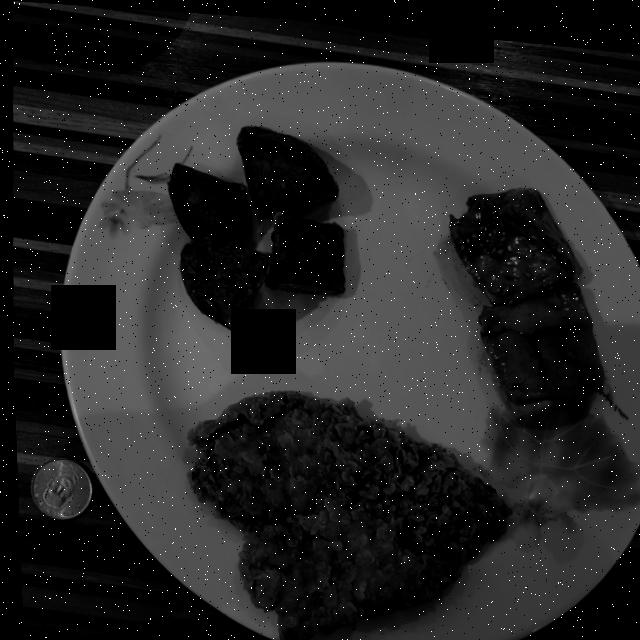coin: (25, 457, 88, 519)
creamy tofu: (448, 180, 600, 396)
fried chicken cutlet: (183, 386, 506, 640)
fried potato: (167, 122, 341, 330)
